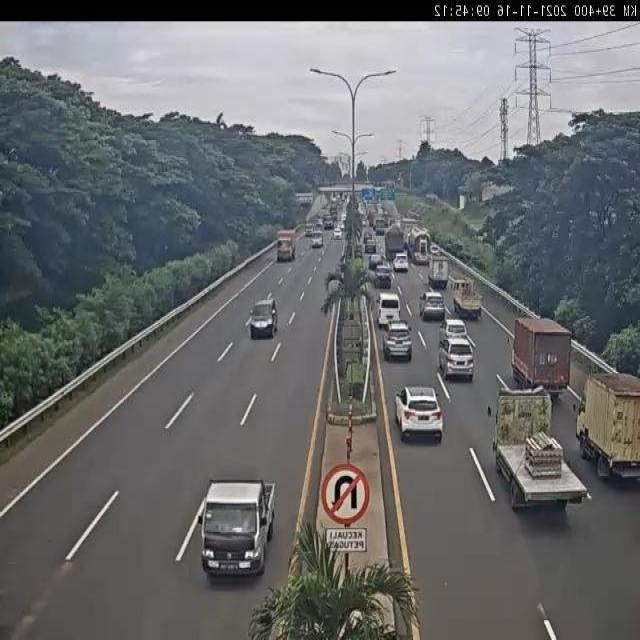Car: (198, 479, 274, 578), (395, 384, 443, 442), (438, 333, 474, 382), (382, 321, 412, 362), (249, 297, 278, 339), (438, 316, 468, 352), (419, 289, 445, 321), (374, 264, 394, 290), (392, 252, 408, 273), (368, 253, 383, 271), (311, 232, 324, 248), (333, 227, 342, 239)
Truck: (487, 385, 588, 512), (572, 374, 640, 478), (508, 319, 570, 396), (451, 276, 481, 319), (408, 224, 432, 266), (385, 222, 404, 262), (428, 256, 449, 289), (277, 230, 297, 262)
Van: (376, 292, 402, 330)
